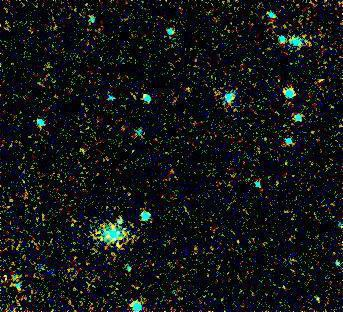star: (102, 232, 132, 262)
